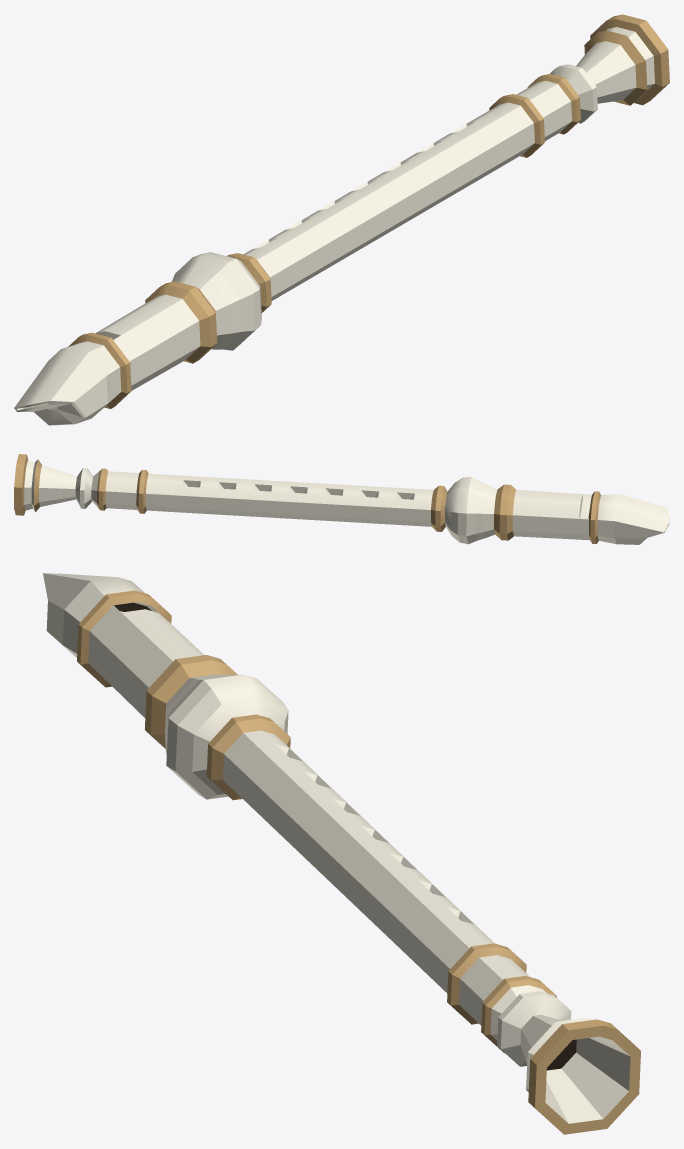
File: recorder.fbx
The picture shows the model from 3 angles, top to bottom: view 1: azimuth 30°, elevation 25°; view 2: azimuth 150°, elevation 25°; view 3: azimuth 270°, elevation 25°; orthographic projection. The views are drawn at different scales.
Visible parts, largest first — view 1: pCylinder93; view 2: pCylinder93; view 3: pCylinder93.
Boxes of the visible parts, x1,y1,x2,y2 form: pCylinder93: [14, 14, 669, 425]; pCylinder93: [14, 454, 669, 544]; pCylinder93: [43, 573, 640, 1134].
Bounding box in the file's own units: 14.88 × 1.58 × 7.22.
Materials: 1 (1 with a texture image).
